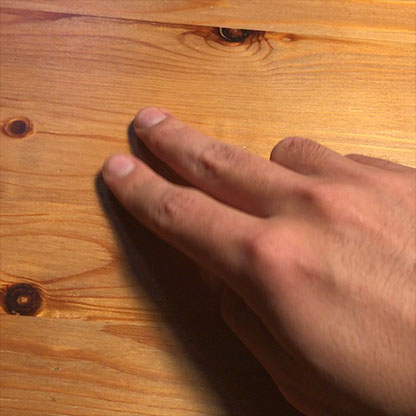fingertip: (85, 146, 141, 190), (122, 99, 175, 144)
